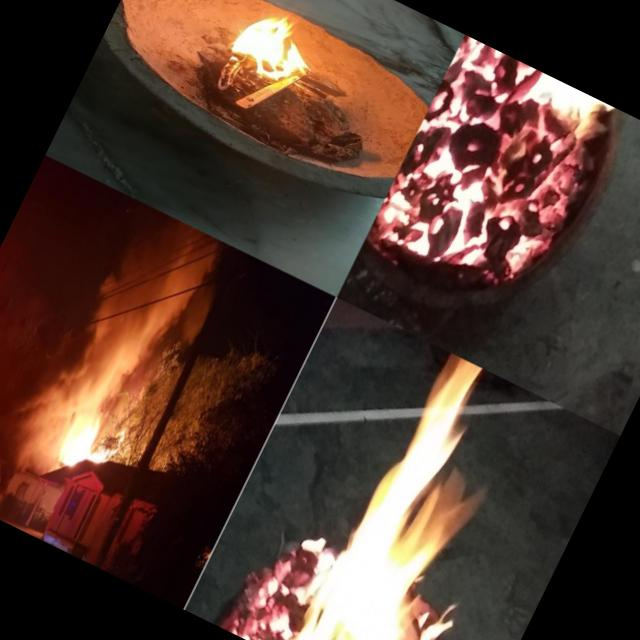fire: (277, 342, 565, 640), (428, 68, 640, 338), (357, 34, 533, 286), (220, 510, 332, 640), (208, 0, 327, 104), (46, 396, 130, 492)
smoke: (46, 208, 214, 418), (0, 367, 82, 478)
